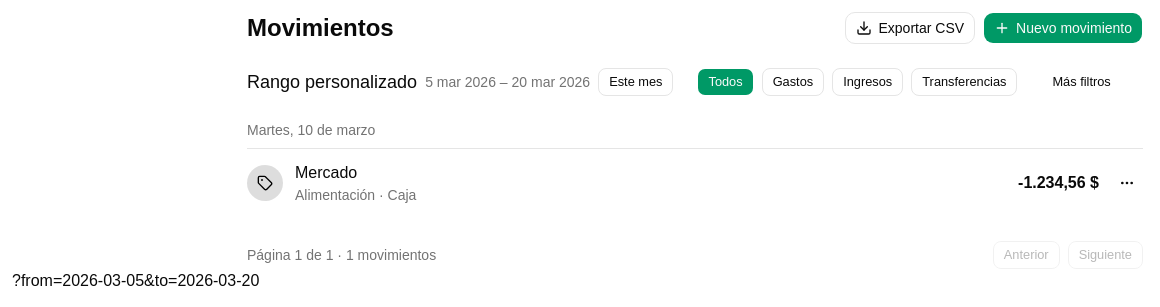
Test: TransactionsPage › period and filters › names a custom range and goes back to this month with one click
Expected: the text with test id "period" reads "Rango personalizado", [247,72,417,92]
Click the button "Este mes".
click(636, 82)  # box [598,68,673,96]
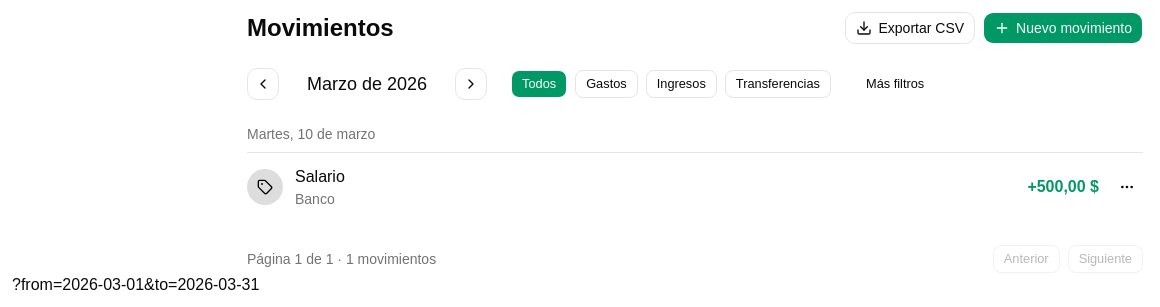
Now the text with test id "month" reads "marzo de 2026", box [307,74,427,94]
